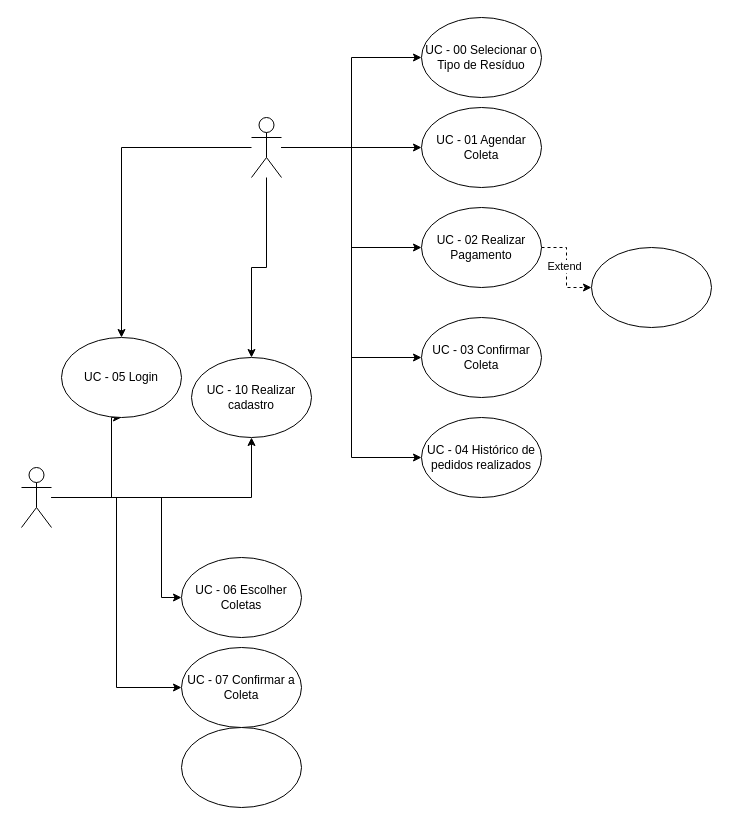
This 729x825 diagram has some shape labels left out. The shapes that lost their labels are listed below. From the top down, each one's centre as x and y in pixels, then its label:
At [266,147]: "Usuá rio".
At [651,287]: "UC - 09 Cadastrar Cartão".
At [36,497]: "Coletor".
At [241,767]: "UC - 08 Histórico de coletas realizadas".
